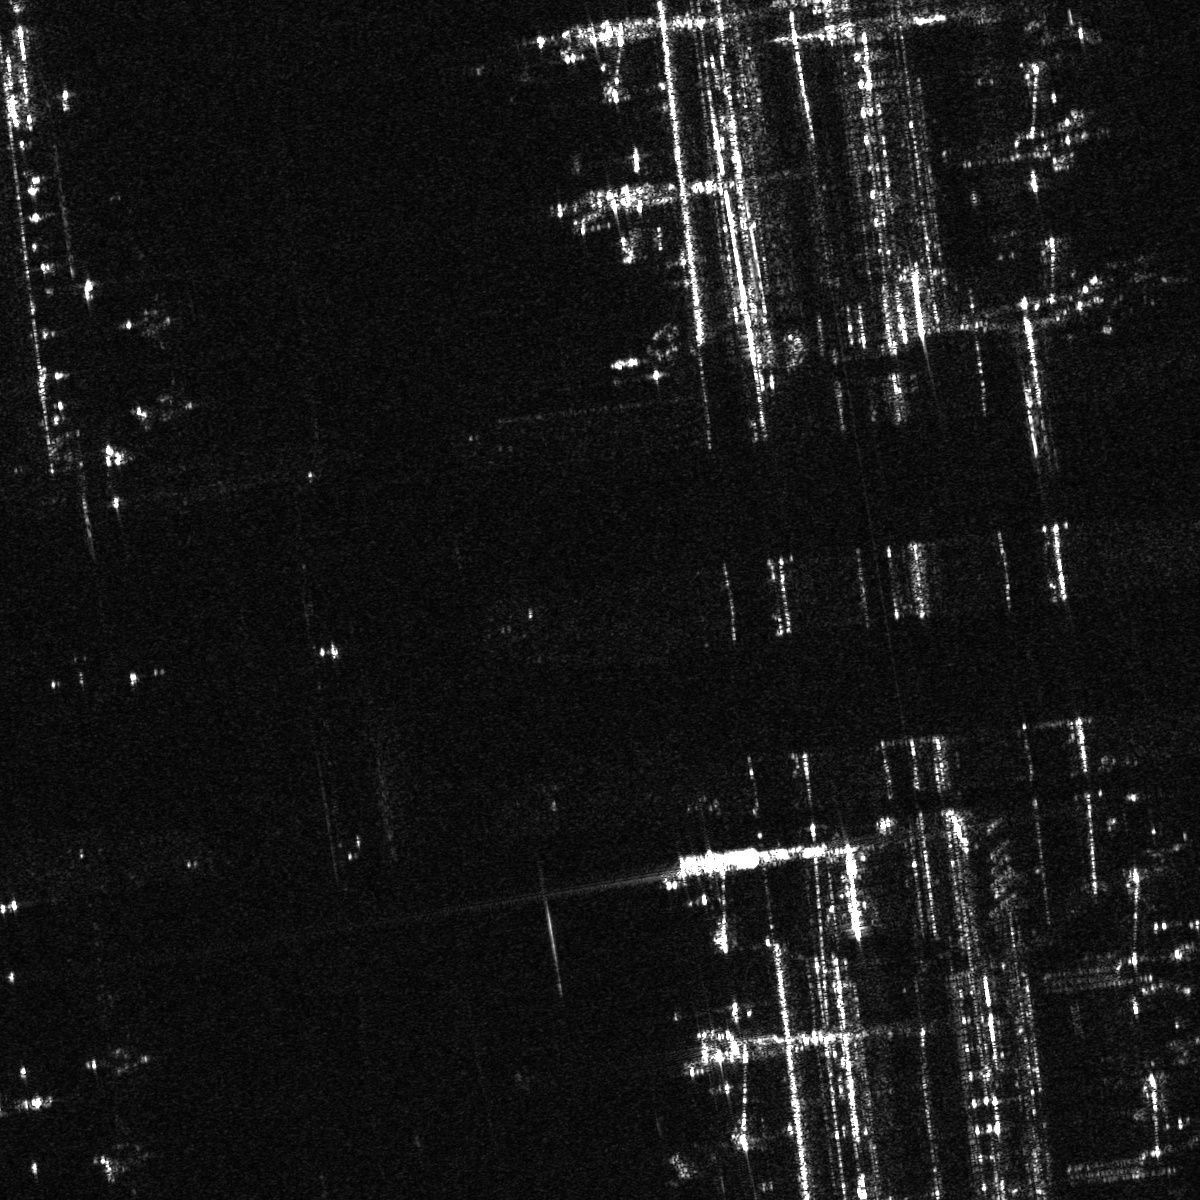Boeing737: (1102, 251, 1167, 308)
